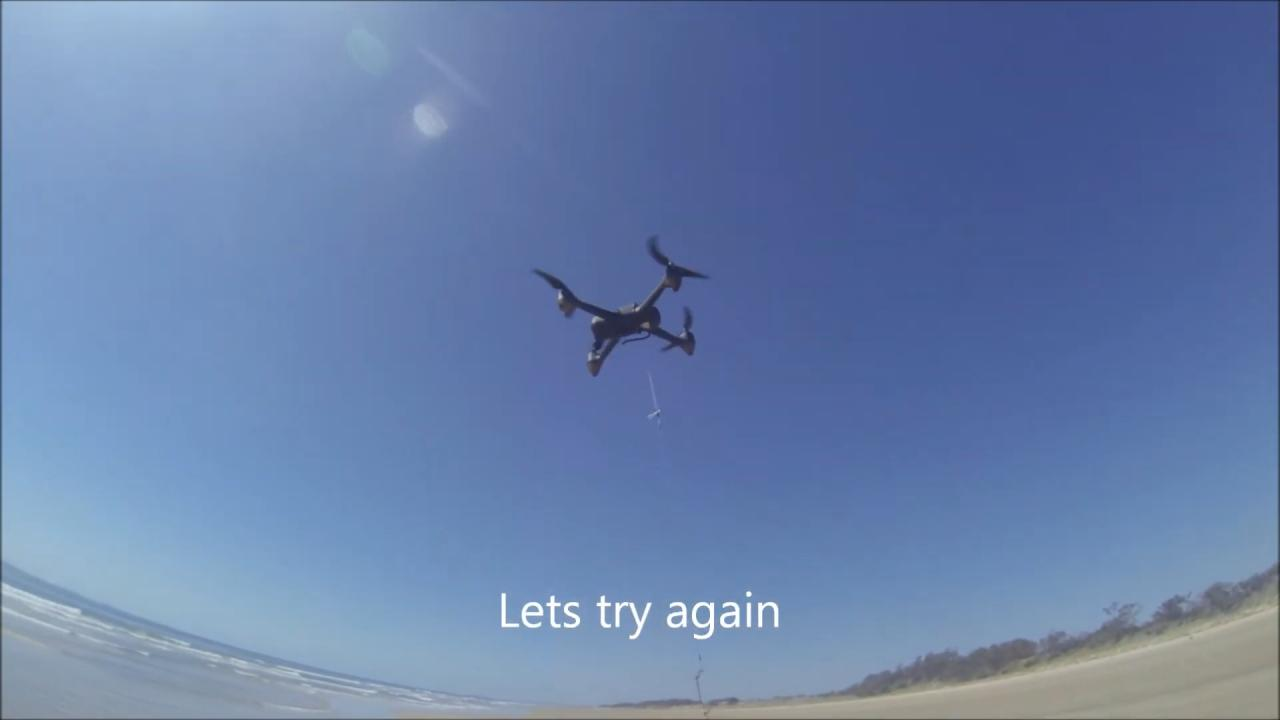Drone: (522, 223, 716, 385)
